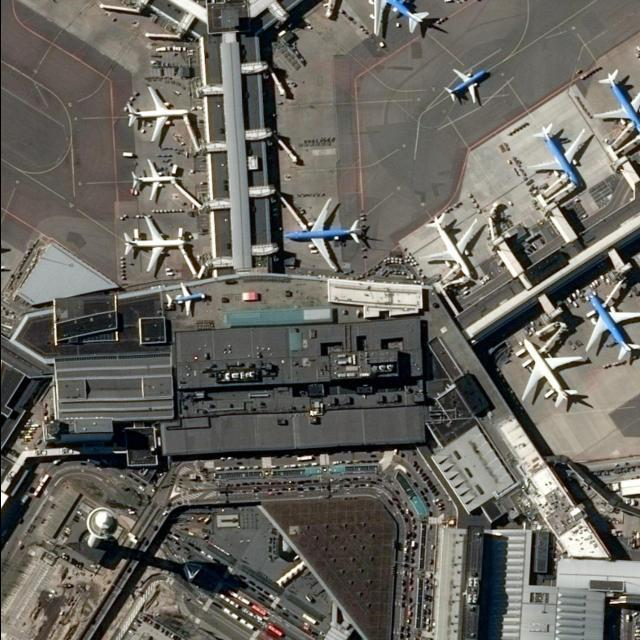Aircraft: (287, 199, 365, 273), (519, 336, 587, 412), (582, 290, 640, 366), (423, 214, 484, 286), (530, 122, 588, 193), (120, 217, 189, 273), (592, 68, 640, 144), (125, 87, 190, 143), (355, 0, 437, 40), (129, 159, 179, 203), (444, 67, 491, 109)
